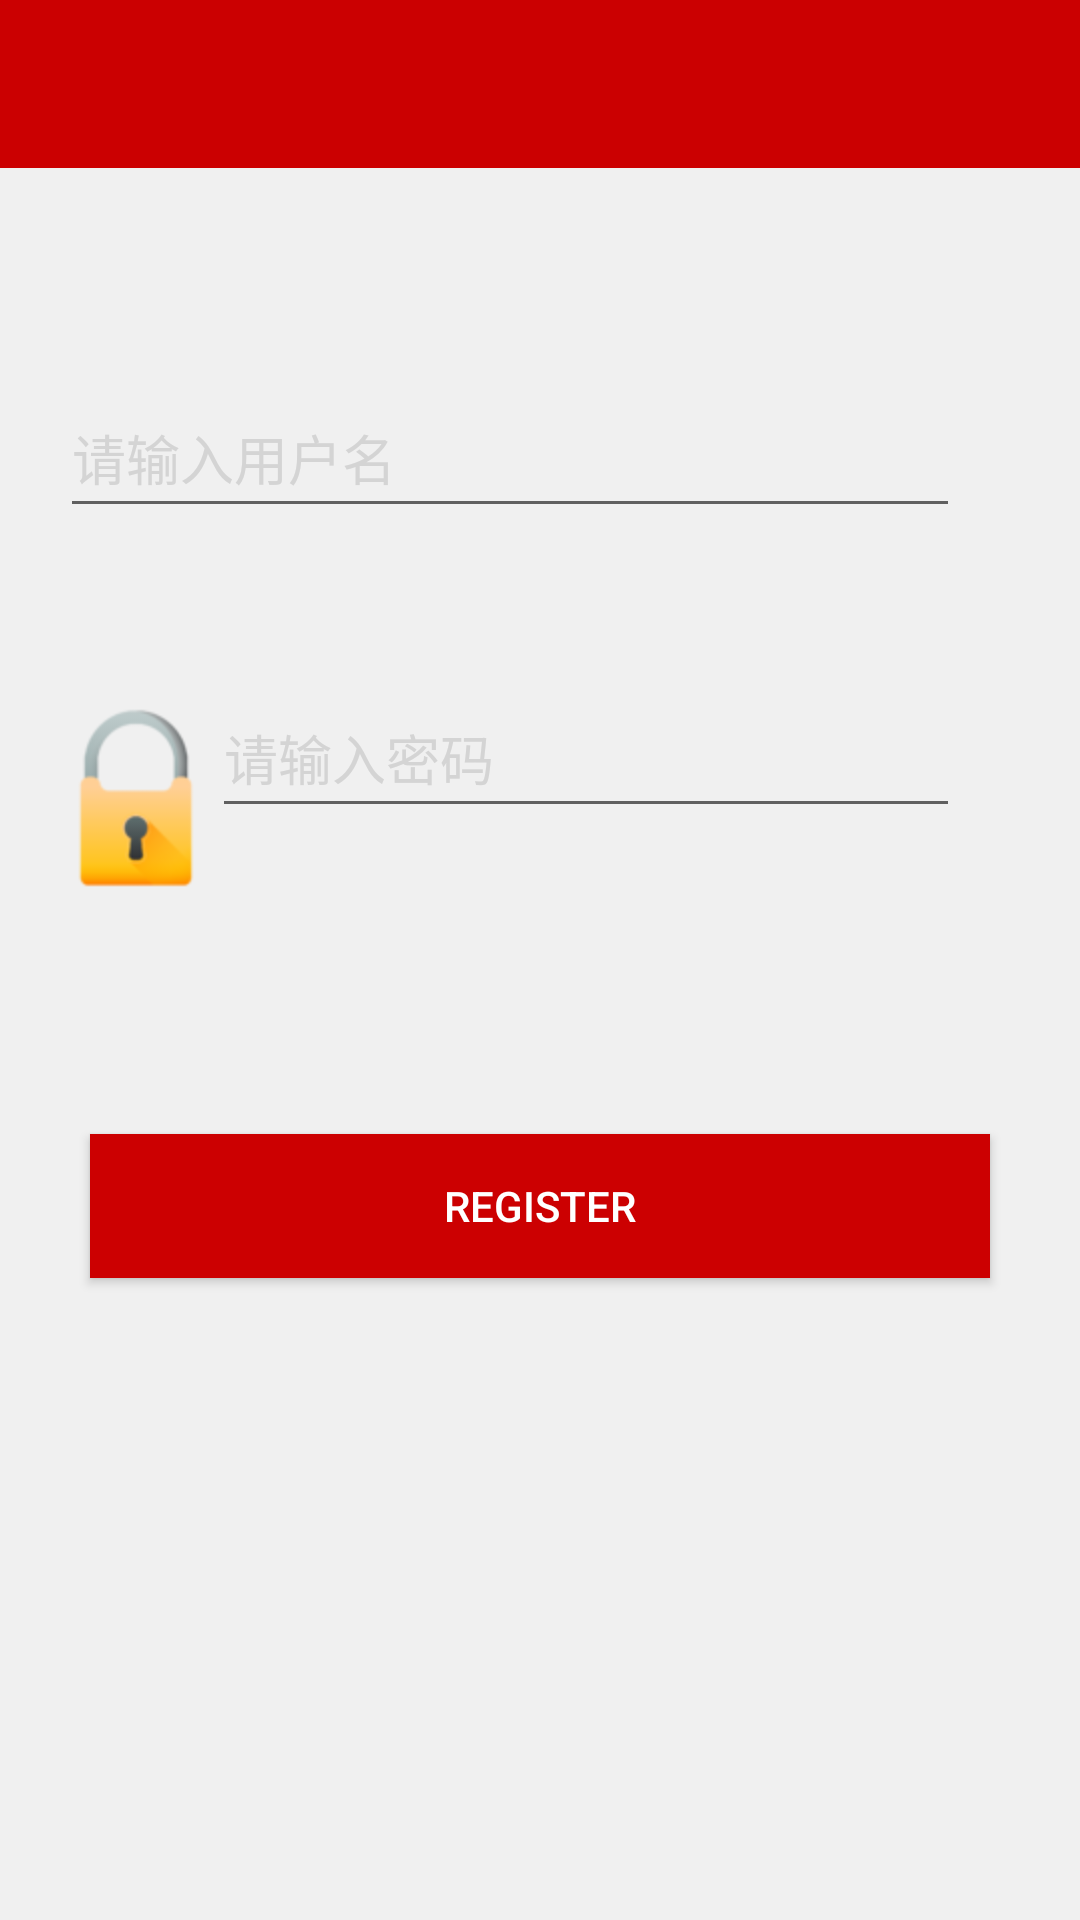

Screen size 1080px×1920px. Icon name, then its center in pixels as (x,y):
password: (136,798)
